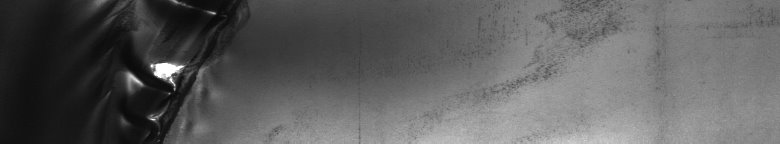ke: (93, 4, 244, 136)
